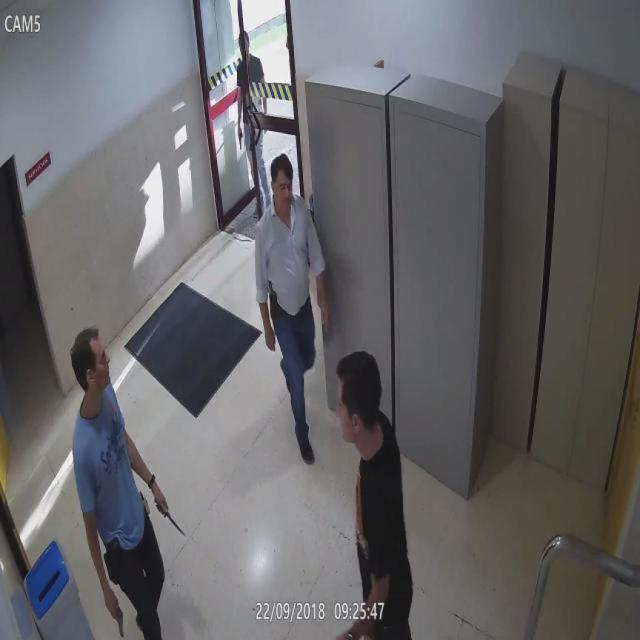pistol: (107, 586, 131, 640), (268, 278, 282, 326), (234, 120, 244, 151)
